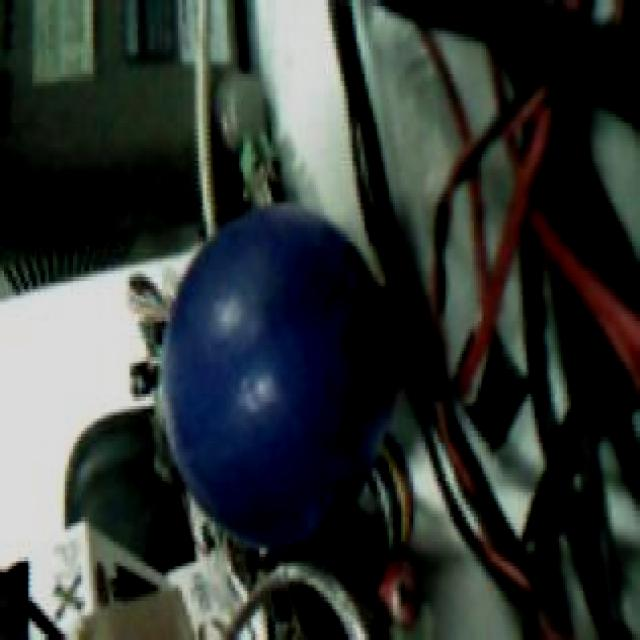BallPurple: (160, 209, 398, 548)
